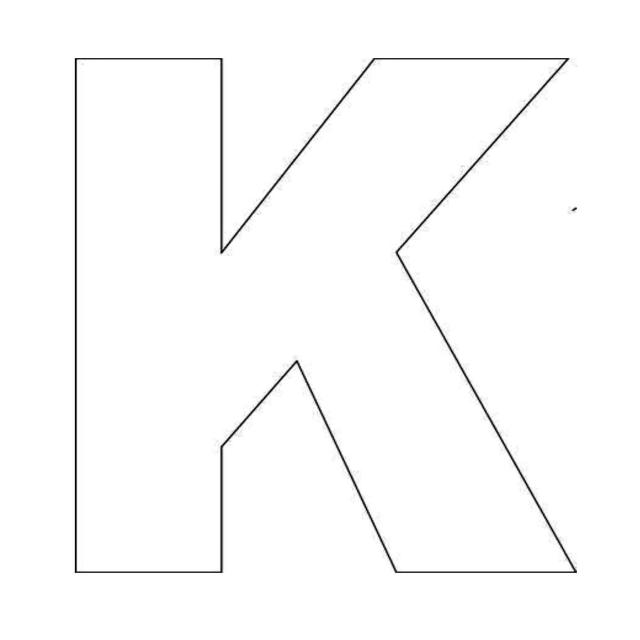K: (40, 24, 583, 608)
